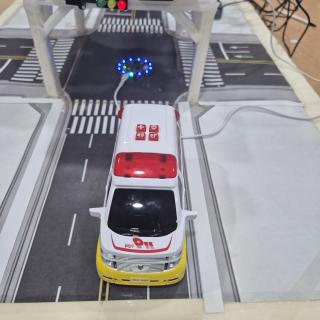Ambulance: (90, 104, 197, 286)
